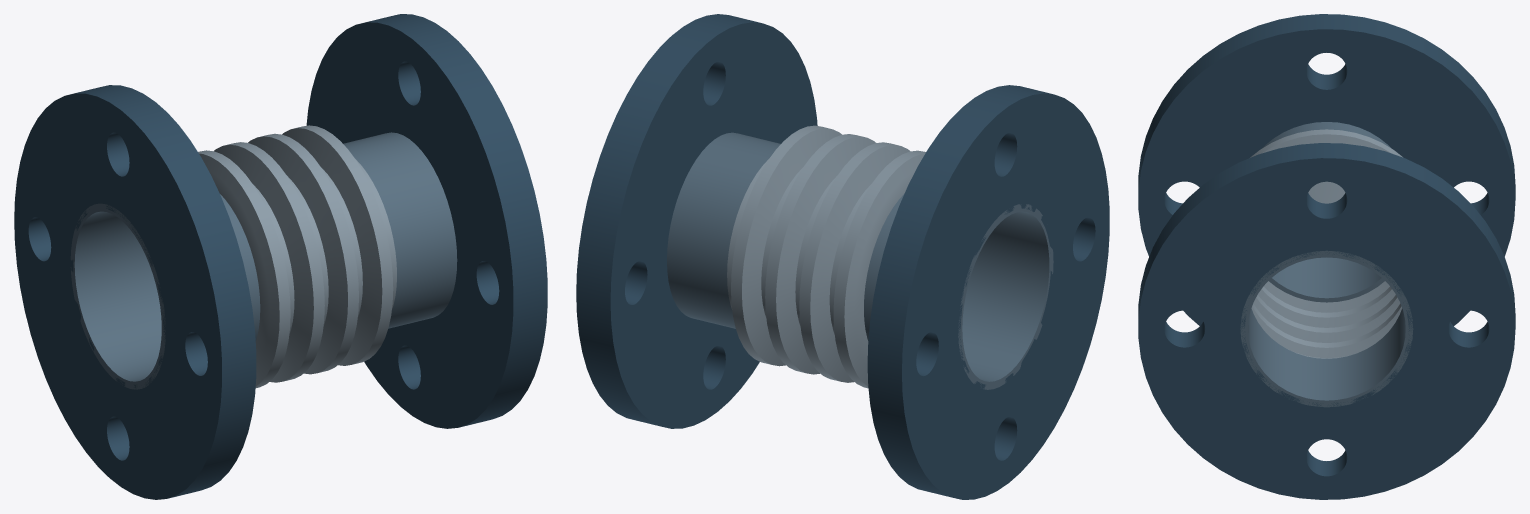
File: silf-dn65-L150-D76-f.glb
3 renders of one model, left to right at view 1: azimuth 30°, elevation 25°; view 2: azimuth 150°, elevation 25°; view 3: azimuth 270°, elevation 25°, orthographic. The views are drawn at different scales.
Parts seen in each view (by area): view 1: homut_flanec_1, homut_flanec_2, prokladka_silfon_1, patrubok_1, patrubok_2; view 2: homut_flanec_1, homut_flanec_2, prokladka_silfon_1, patrubok_1, patrubok_2; view 3: homut_flanec_2, homut_flanec_1, patrubok_2, prokladka_silfon_1, patrubok_1.
Part boxes in pixels (left/top/right/bottom): homut_flanec_1: left=14, top=85, right=256, bottom=499; homut_flanec_2: left=306, top=14, right=547, bottom=428; prokladka_silfon_1: left=198, top=125, right=396, bottom=387; patrubok_1: left=70, top=194, right=260, bottom=389; patrubok_2: left=343, top=132, right=457, bottom=328; homut_flanec_1: left=867, top=85, right=1109, bottom=499; homut_flanec_2: left=576, top=14, right=817, bottom=428; prokladka_silfon_1: left=727, top=125, right=925, bottom=388; patrubok_1: left=864, top=194, right=1053, bottom=389; patrubok_2: left=667, top=132, right=780, bottom=328; homut_flanec_2: left=1138, top=143, right=1515, bottom=499; homut_flanec_1: left=1138, top=14, right=1515, bottom=325; patrubok_2: left=1240, top=250, right=1413, bottom=407; prokladka_silfon_1: left=1250, top=129, right=1402, bottom=358; patrubok_1: left=1262, top=122, right=1391, bottom=302.
Size of the model in its own units: 150 by 166 by 166.
